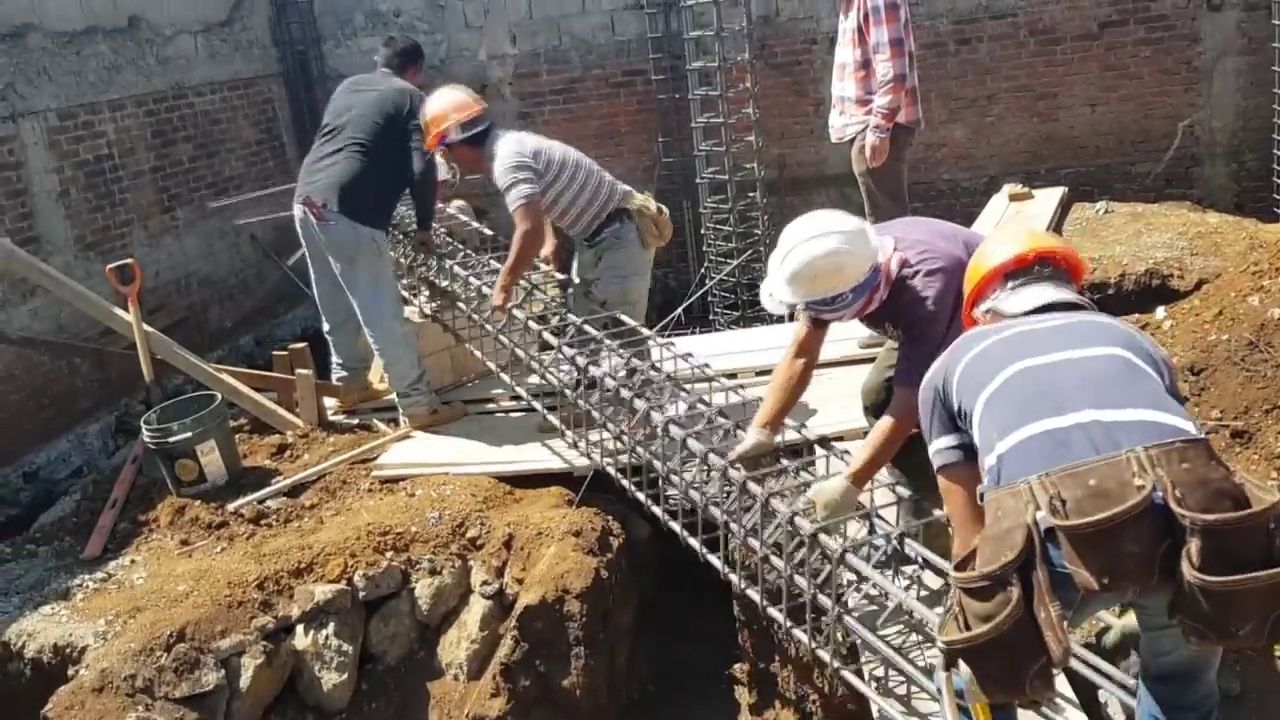helmet: (762, 205, 882, 318), (956, 228, 1083, 324), (418, 78, 481, 153)
helmet-off: (377, 29, 421, 82)
helmet-on: (763, 203, 900, 325), (958, 227, 1101, 336), (418, 75, 500, 184)
person: (915, 228, 1280, 708), (742, 208, 998, 546), (415, 73, 672, 356), (303, 23, 463, 429), (828, 10, 925, 229)
